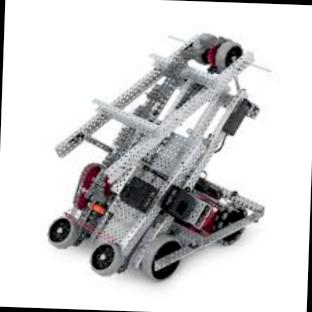Robot: (48, 33, 263, 279)
